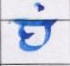anusvara: (35, 3, 44, 12)
